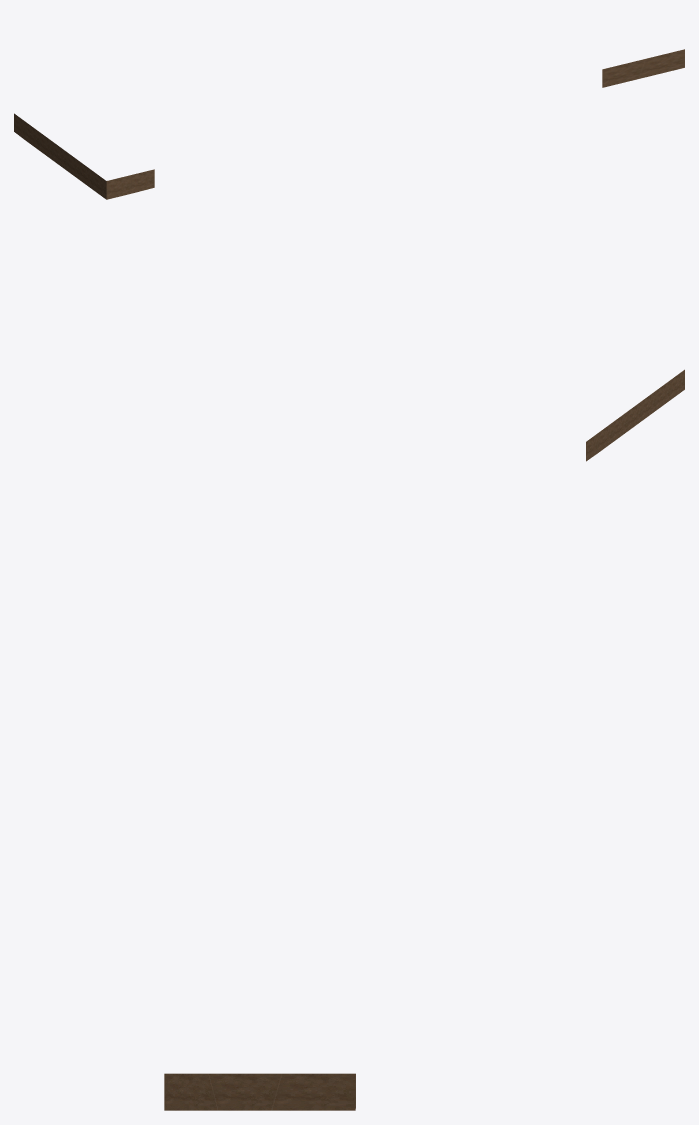
The picture shows the model from 3 angles, top to bottom: view 1: azimuth 30°, elevation 25°; view 2: azimuth 150°, elevation 25°; view 3: azimuth 270°, elevation 25°; orthographic projection. The views are drawn at different scales.
Visible parts, largest first — view 1: Joint_0_Object_0; view 2: Joint_0_Object_0; view 3: Joint_0_Object_0.
Boxes of the visible parts, x1=… form: Joint_0_Object_0: x1=14, y1=49, x2=684, y2=199; Joint_0_Object_0: x1=586, y1=369, x2=684, y2=461; Joint_0_Object_0: x1=164, y1=1073, x2=355, y2=1110.
Bounding box in the file's own units: 10000 × 460 × 2772.
1 material, 1 textured.
